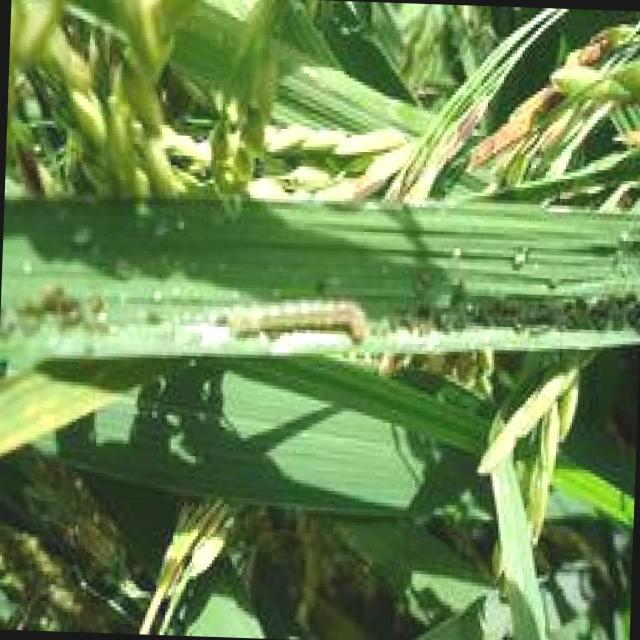leaf folder: (220, 301, 367, 341)
